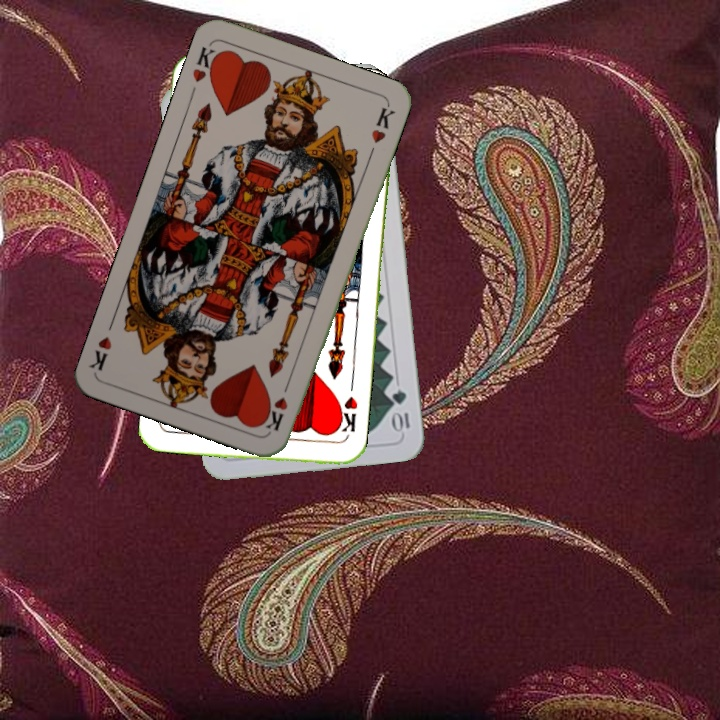G10: (388, 386, 412, 435)
HK: (261, 376, 293, 433), (188, 41, 224, 85), (332, 392, 361, 442)
